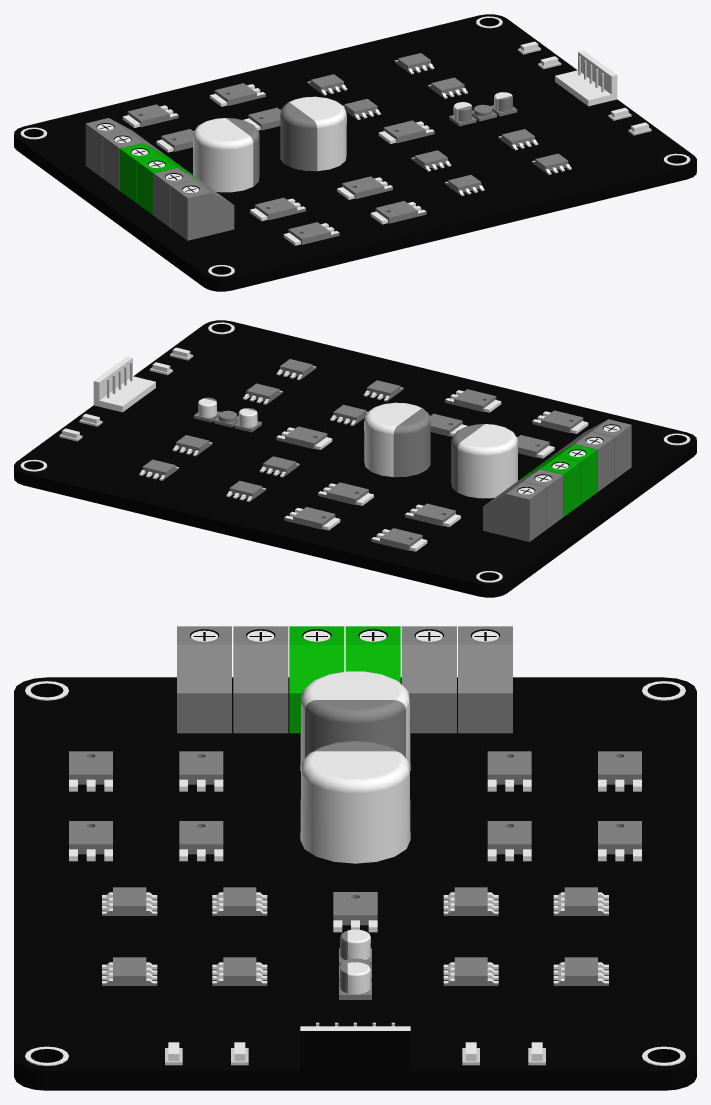
3 renders of one model, top to bottom at view 1: azimuth 30°, elevation 25°; view 2: azimuth 150°, elevation 25°; view 3: azimuth 270°, elevation 25°, orthographic. The views are drawn at different scales.
Visible parts, largest first — view 1: mesh3393, mesh3431, mesh4020, mesh3436, mesh3451, mesh4028, mesh4016, mesh4019, mesh4023, mesh3460, mesh3466, mesh3472 (+6 smaller); view 2: mesh3393, mesh3434, mesh4020, mesh3436, mesh3470, mesh4028, mesh4016, mesh4019, mesh4023, mesh3472, mesh3442, mesh3466 (+6 smaller); view 3: mesh3393, mesh3437, mesh4016, mesh3447, mesh3465, mesh3453, mesh3471, mesh4024, mesh3444, mesh3450, mesh3468, mesh3441 (+21 smaller).
Boxes of the visible parts, box(x1,y1,x2,y2) form: mesh3393: box(14, 14, 696, 279); mesh3431: box(231, 167, 686, 290); mesh4020: box(193, 136, 253, 192); mesh3436: box(16, 138, 203, 286); mesh3451: box(187, 192, 234, 240); mesh4028: box(280, 117, 317, 171); mesh4016: box(317, 116, 346, 171); mesh4019: box(290, 97, 339, 119); mesh4023: box(199, 118, 249, 140); mesh3460: box(119, 149, 136, 202); mesh3466: box(102, 136, 119, 190); mesh3472: box(85, 124, 102, 177); mesh3393: box(14, 320, 696, 585); mesh3434: box(24, 473, 479, 596); mesh4020: box(457, 442, 517, 498); mesh3436: box(507, 444, 694, 592); mesh3470: box(483, 494, 529, 541); mesh4028: box(393, 423, 430, 477); mesh4016: box(364, 422, 393, 477); mesh4019: box(371, 403, 420, 425); mesh4023: box(461, 424, 511, 446); mesh3472: box(529, 487, 546, 541); mesh3442: box(580, 450, 597, 504); mesh3466: box(546, 475, 563, 529); mesh3393: box(14, 677, 696, 1070); mesh3437: box(47, 1031, 663, 1090); mesh4016: box(300, 767, 410, 863); mesh3447: box(233, 644, 288, 693); mesh3465: box(401, 644, 456, 693); mesh3453: box(177, 644, 231, 693); mesh3471: box(458, 644, 512, 693); mesh4024: box(305, 710, 405, 758); mesh3444: box(233, 693, 288, 733); mesh3450: box(177, 693, 231, 733); mesh3468: box(458, 693, 512, 733); mesh3441: box(289, 644, 344, 693).
Bounding box in the file's own units: 0.0845 × 0.01 × 0.062.
